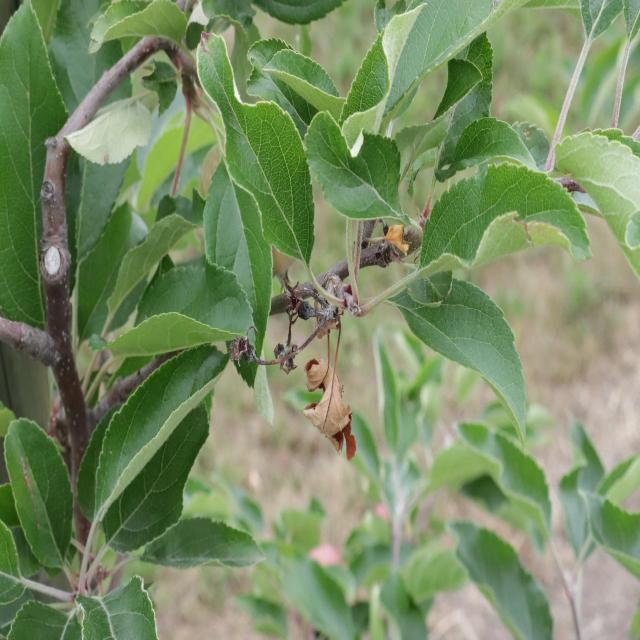-FireBlight-: (298, 285, 364, 452)
